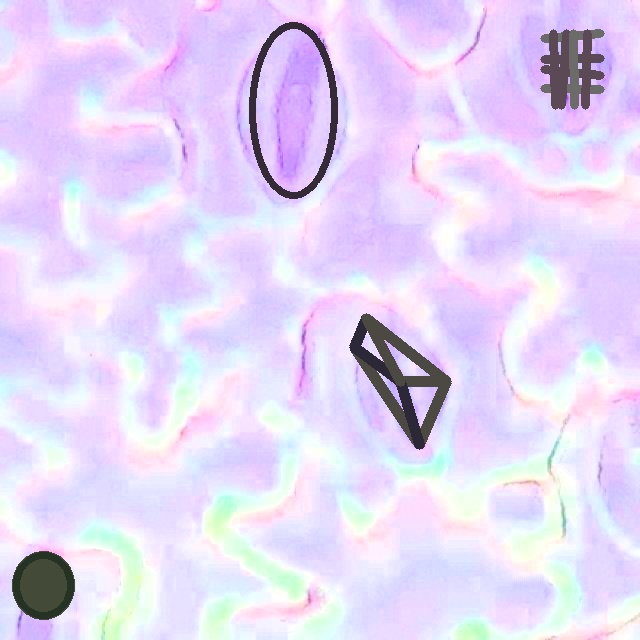open: (248, 21, 338, 199), (350, 313, 451, 449), (540, 29, 604, 109), (12, 550, 74, 620)
